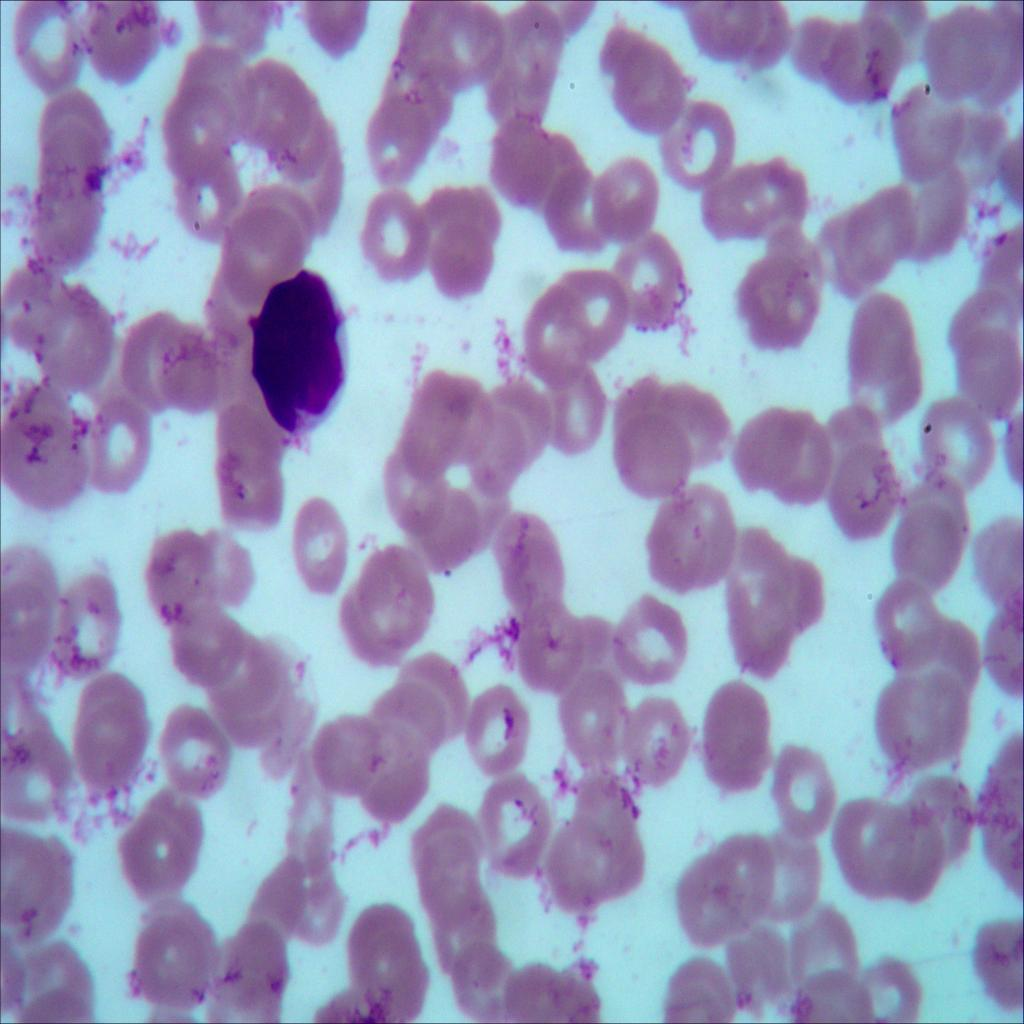Limfoblast: (242, 259, 350, 445)
